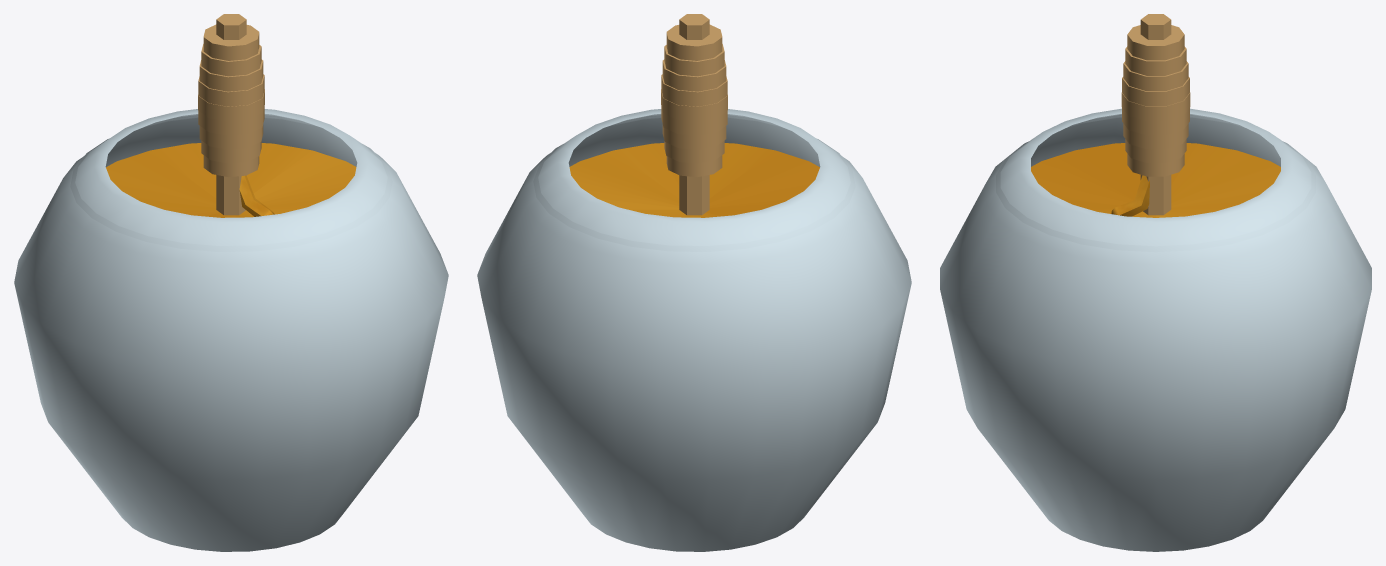
The model's file is deli_honey_pot_dipper.glb.
3 views of the same model, side by side, from view 1: azimuth 30°, elevation 25°; view 2: azimuth 150°, elevation 25°; view 3: azimuth 270°, elevation 25° (orthographic).
Parts seen in each view (by area): view 1: deli_honey_pot_dipper; view 2: deli_honey_pot_dipper; view 3: deli_honey_pot_dipper.
Part boxes in pixels (x1,y1,x2,y2): deli_honey_pot_dipper: (14,14,448,551); deli_honey_pot_dipper: (477,14,911,551); deli_honey_pot_dipper: (940,14,1371,551).
Size of the model in its own units: 0.114 by 0.14 by 0.1132.
3 materials, 1 textured.
